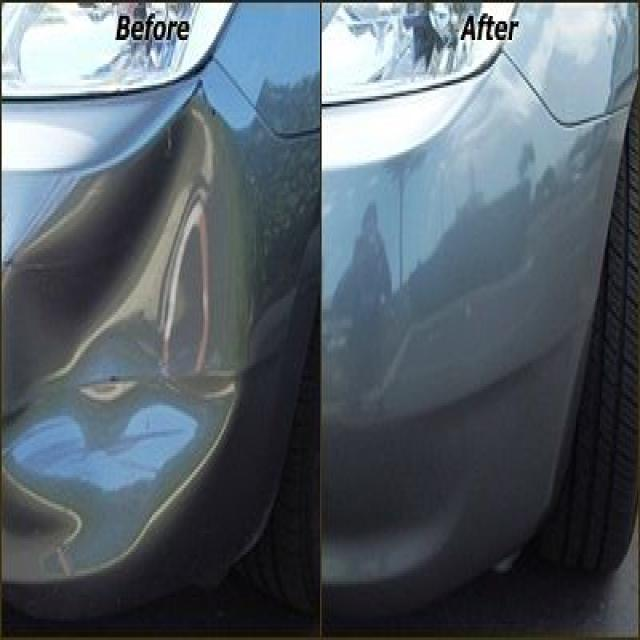dent: (0, 62, 295, 597)
scratch: (177, 72, 218, 119)
